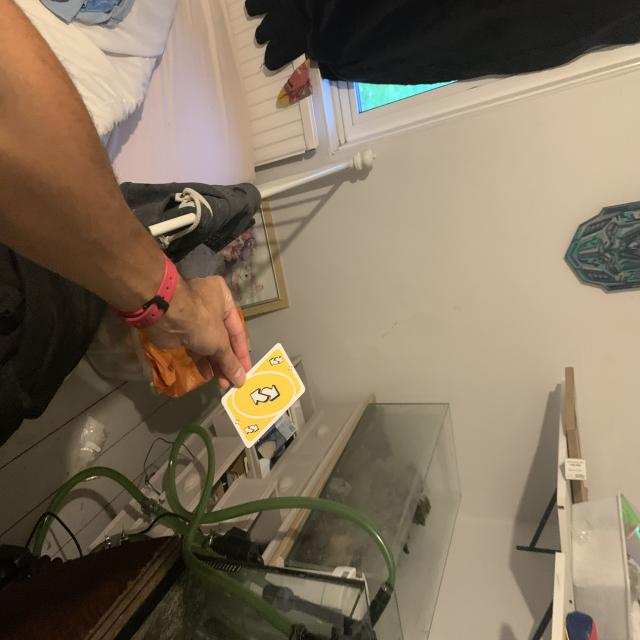lyellowrevers-20: (267, 353, 285, 370)
